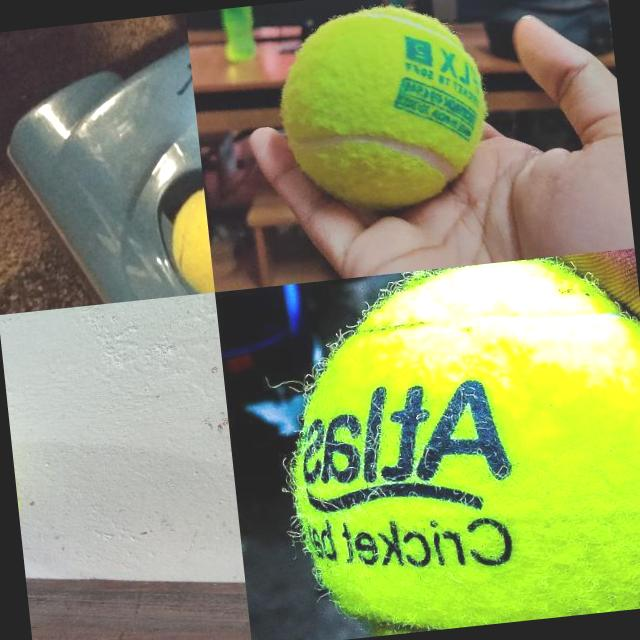Tennis Ball: (269, 248, 640, 640), (271, 0, 494, 218), (164, 180, 214, 294)
